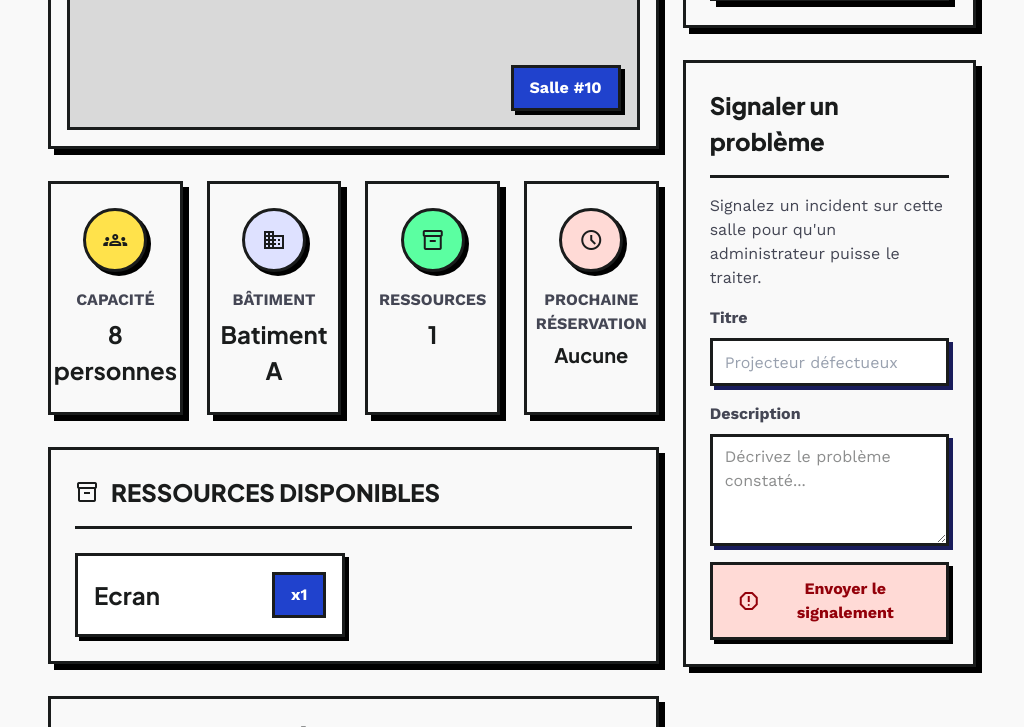
Test: RoomDetails › cree un signalement puis affiche le toast de succes
(page scrolled)
Step 1. Type "Micro coupe" into the field with placeholder "Projecteur défectueux" → (829, 362), box 710,338 -> 949,386
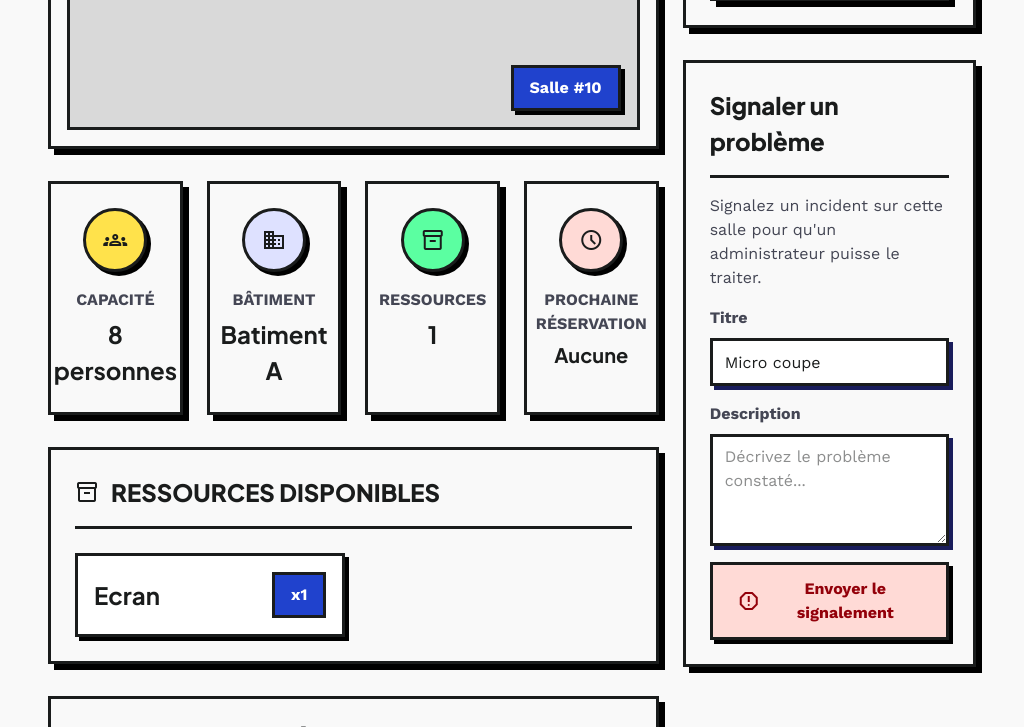
Step 2. Type "Le son se coupe apres quelques minutes." into the text box with placeholder "Décrivez le problème constaté..." → (829, 490), box 710,434 -> 949,546
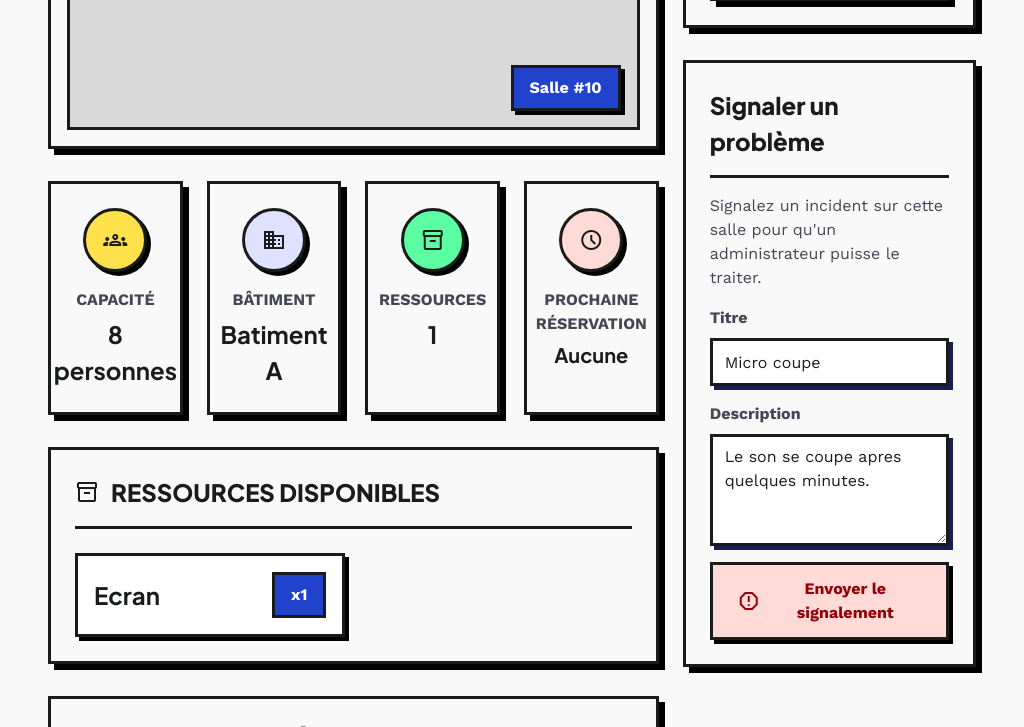
Step 3. Click the button "Envoyer le signalement" → (829, 601), box 710,562 -> 949,640
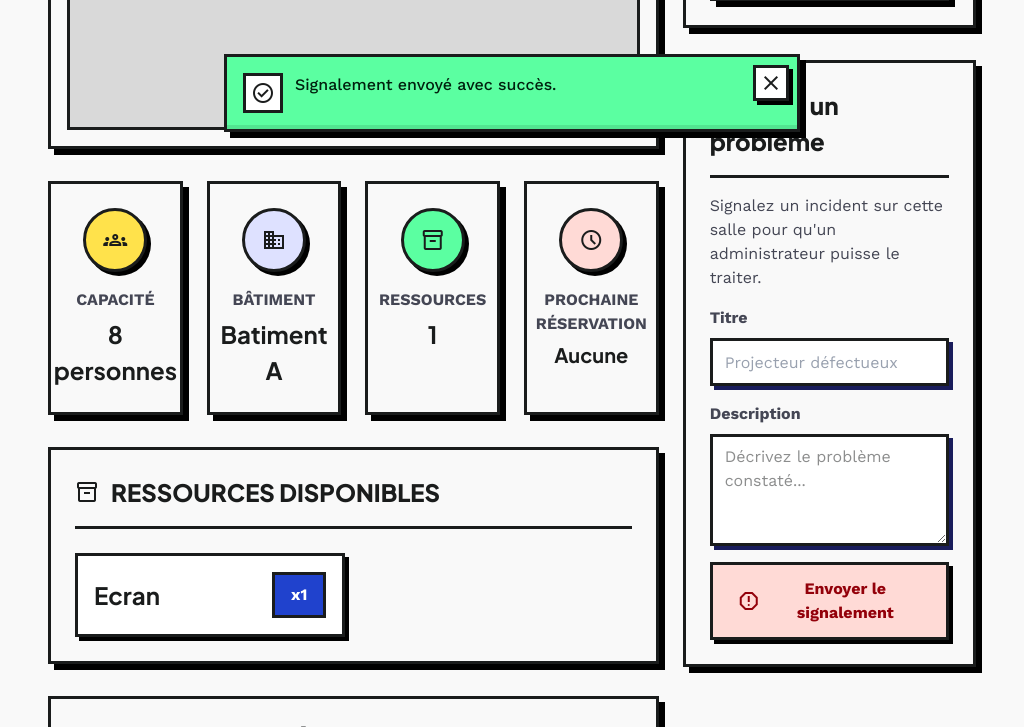
Expected: the text "Signalement envoyé avec succès." is shown, 295,73 -> 556,97
Expected: the field with placeholder "Projecteur défectueux" is empty, 710,338 -> 949,386
Expected: the text box with placeholder "Décrivez le problème constaté..." is empty, 710,434 -> 949,546
